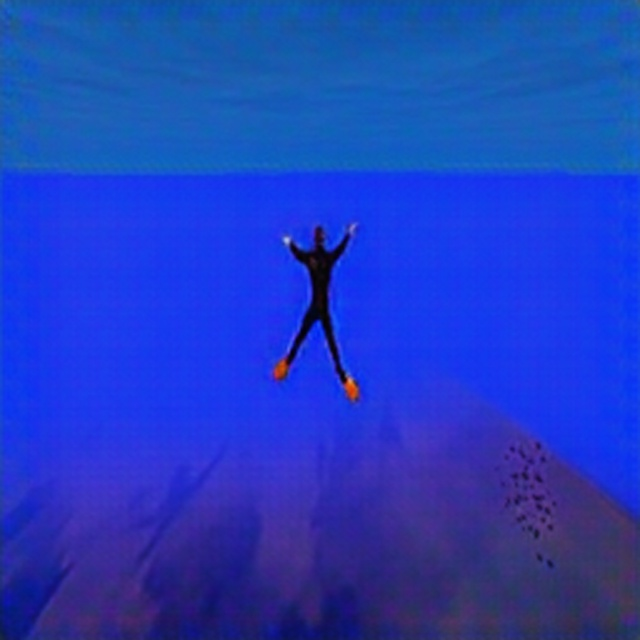diver: (271, 216, 361, 400)
